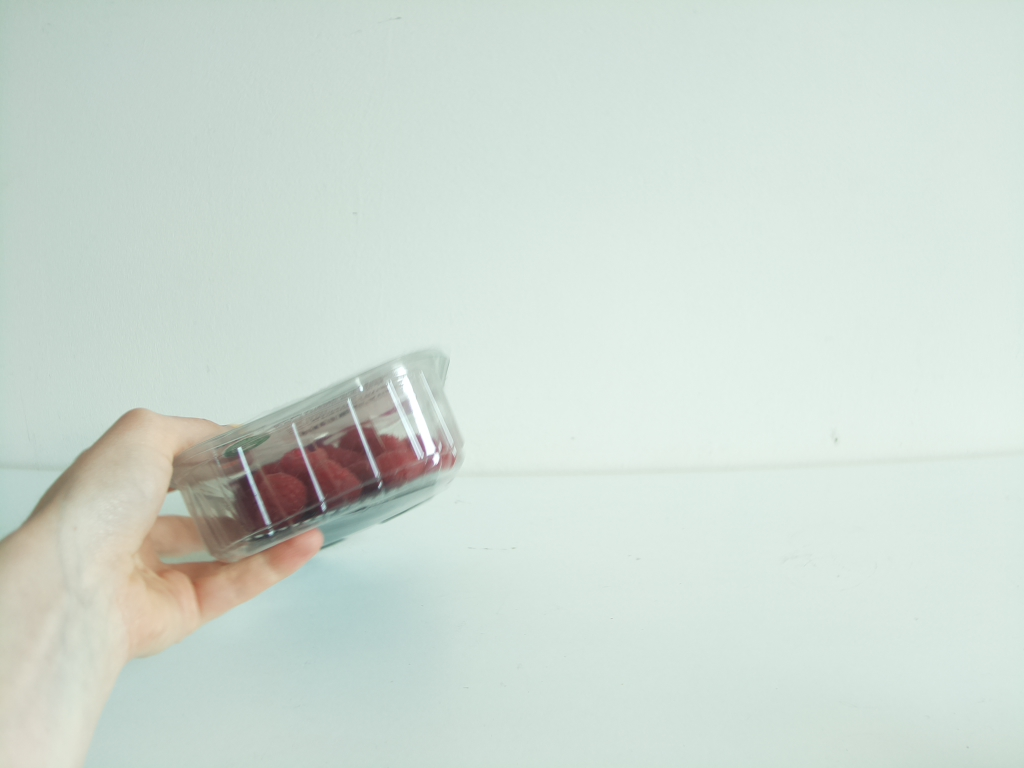soft-fruit: (170, 347, 470, 556)
